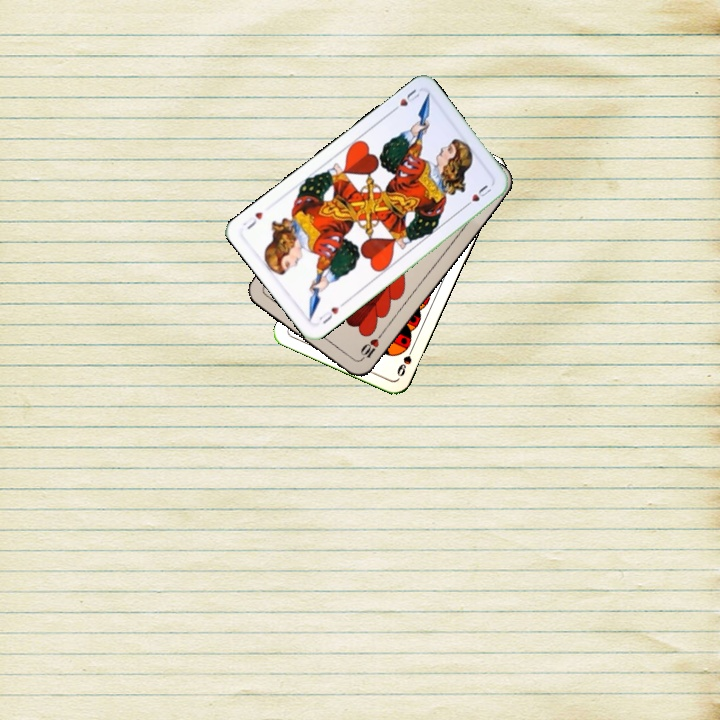H10: (356, 329, 386, 364)
HU: (387, 85, 422, 115), (315, 298, 348, 327)
S9: (393, 342, 417, 379)
